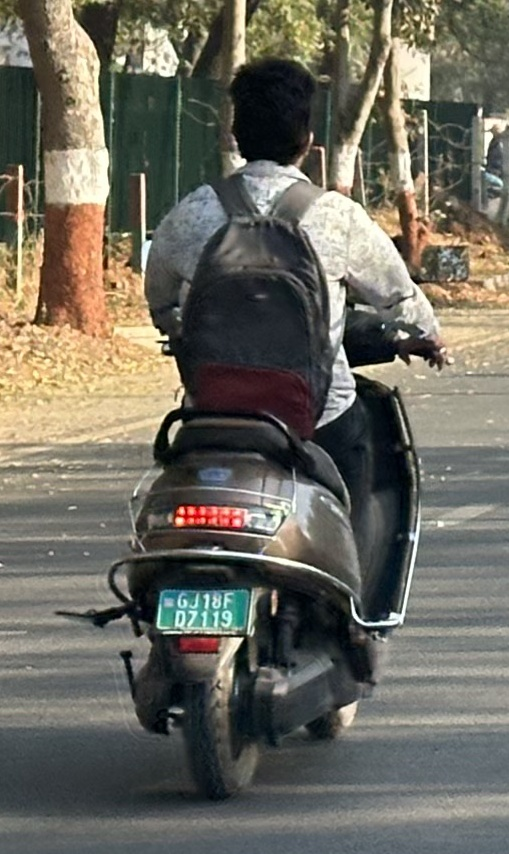BikeWithRider: (46, 45, 459, 810)
NoHelmet: (215, 48, 328, 177)
